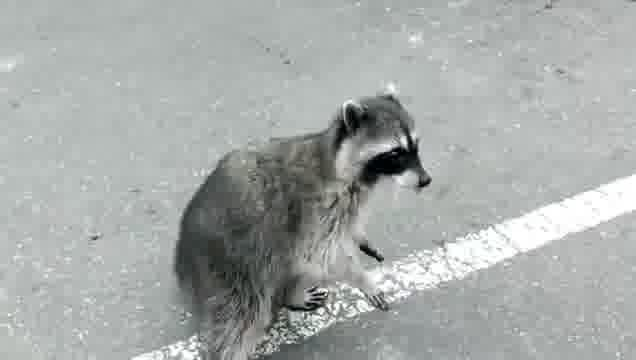raccoon: (172, 86, 433, 360)
